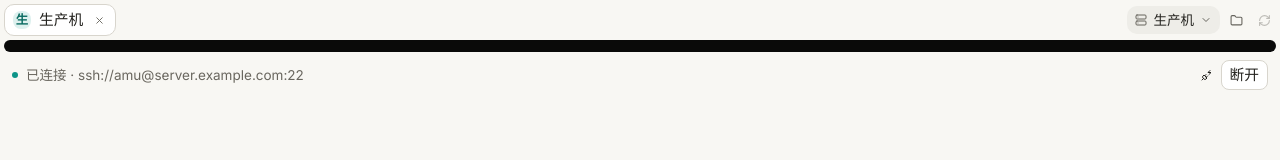
Scenario: SshTerminalPanel 终端态 › disconnects from the footer and closes the session
Click the button "断开" at (1244, 75), box x1=1220 y1=60 x2=1268 y2=90
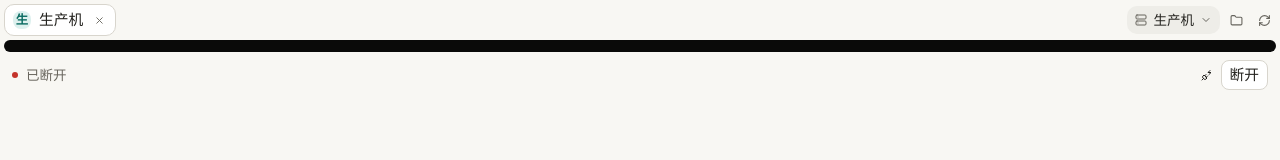
Expected: the text "已断开" is shown, x1=26 y1=65 x2=67 y2=85
